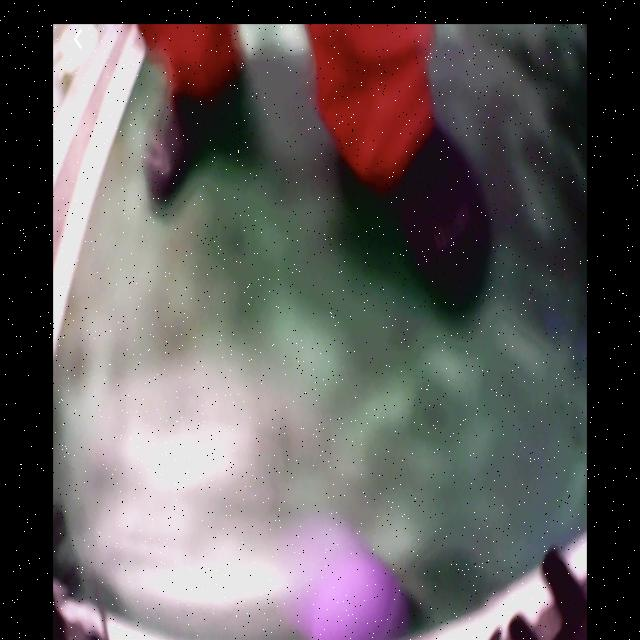ball: (314, 566, 406, 640)
